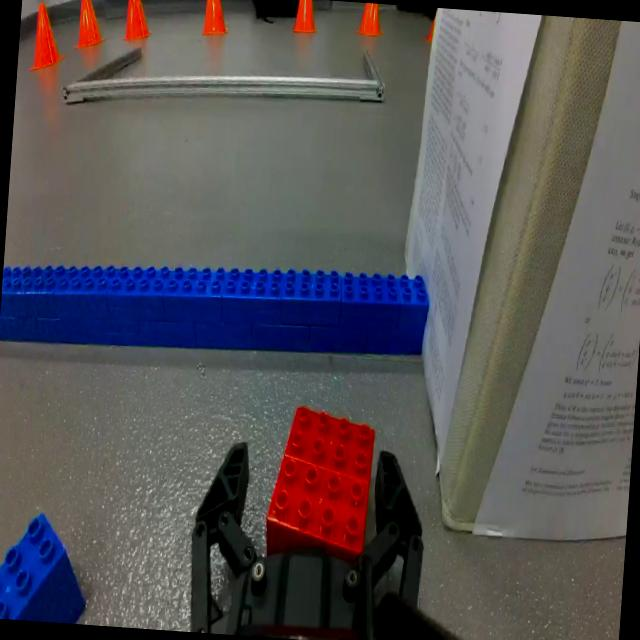blue: (0, 507, 91, 624)
cone: (28, 1, 68, 74), (74, 0, 107, 48), (123, 0, 155, 42), (353, 1, 385, 38), (199, 0, 228, 37), (292, 0, 318, 35), (423, 7, 435, 43)
metal barrier: (61, 29, 388, 126)
red goal: (264, 403, 376, 567)
river: (0, 243, 431, 370)
storage cube: (384, 6, 640, 542)
